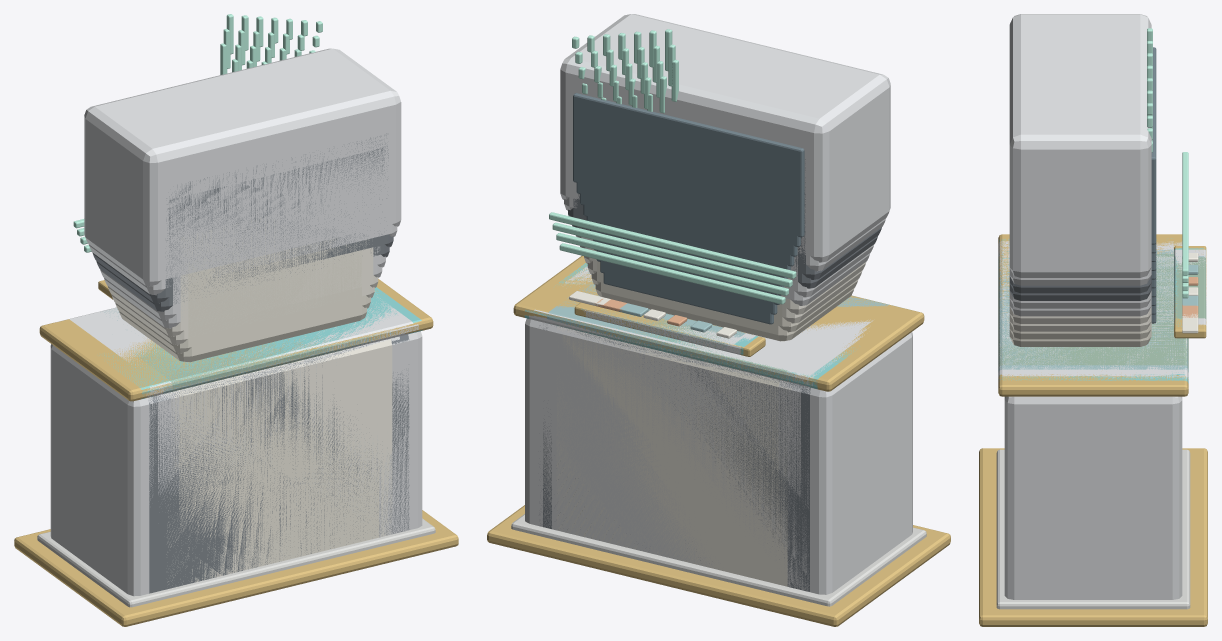
File: Gear11.fbx
3 renders of one model, left to right at view 1: azimuth 30°, elevation 25°; view 2: azimuth 150°, elevation 25°; view 3: azimuth 270°, elevation 25°, orthographic. The views are drawn at different scales.
Parts seen in each view (by area): view 1: Gear11_V10_Platinum, Gear11_V1_Ivory, Gear11_V4_Linen, Gear11_V7_Graphite, Gear11_V9_Platinum, Gear11_V10_Gold, Gear11_V8_Graphite, Gear11_V6_Platinum, Gear11_V2_Ivory, Gear11_V9_Gold, Gear11_V8_Aqua, Gear11_V3_Linen (+12 smaller); view 2: Gear11_V10_Platinum, Gear11_V3_Linen, Gear11_V5_Platinum, Gear11_V10_Glass, Gear11_V10_Gold, Gear11_V6_Platinum, Gear11_V9_Gold, Gear11_V8_Graphite, Gear11_V1_Ivory, Gear11_V9_Platinum, Gear11_V6_Glass, Gear11_V8_Glass (+23 smaller); view 3: Gear11_V10_Platinum, Gear11_V10_Gold, Gear11_V1_Sage, Gear11_V9_Gold, Gear11_V5_Platinum, Gear11_V10_Chrome, Gear11_V3_Blue, Gear11_V6_Platinum, Gear11_V2_Blue, Gear11_V10_Glow, Gear11_V8_Graphite, Gear11_V2_Ivory (+12 smaller).
Boxes of the visible parts, bbox=[...] form: Gear11_V10_Platinum: bbox=[50, 48, 422, 596]; Gear11_V1_Ivory: bbox=[119, 240, 379, 572]; Gear11_V4_Linen: bbox=[107, 213, 392, 585]; Gear11_V7_Graphite: bbox=[96, 148, 405, 592]; Gear11_V9_Platinum: bbox=[89, 119, 413, 594]; Gear11_V10_Gold: bbox=[14, 279, 458, 626]; Gear11_V8_Graphite: bbox=[92, 133, 409, 593]; Gear11_V6_Platinum: bbox=[100, 167, 413, 528]; Gear11_V2_Ivory: bbox=[115, 243, 370, 471]; Gear11_V9_Gold: bbox=[22, 280, 451, 625]; Gear11_V8_Aqua: bbox=[99, 287, 422, 398]; Gear11_V3_Linen: bbox=[111, 207, 387, 536]; Gear11_V10_Platinum: bbox=[525, 14, 912, 594]; Gear11_V3_Linen: bbox=[562, 249, 862, 586]; Gear11_V5_Platinum: bbox=[538, 246, 870, 566]; Gear11_V10_Glass: bbox=[573, 93, 804, 237]; Gear11_V10_Gold: bbox=[487, 256, 950, 626]; Gear11_V6_Platinum: bbox=[533, 235, 874, 519]; Gear11_V9_Gold: bbox=[493, 259, 942, 622]; Gear11_V8_Graphite: bbox=[539, 159, 881, 591]; Gear11_V1_Ivory: bbox=[595, 282, 854, 526]; Gear11_V9_Platinum: bbox=[534, 88, 885, 550]; Gear11_V6_Glass: bbox=[586, 152, 790, 270]; Gear11_V8_Glass: bbox=[580, 125, 797, 256]; Gear11_V10_Platinum: bbox=[1004, 14, 1182, 599]; Gear11_V10_Gold: bbox=[979, 234, 1207, 626]; Gear11_V1_Sage: bbox=[998, 254, 1206, 368]; Gear11_V9_Gold: bbox=[980, 236, 1207, 591]; Gear11_V5_Platinum: bbox=[998, 245, 1206, 376]; Gear11_V10_Chrome: bbox=[996, 449, 1190, 609]; Gear11_V3_Blue: bbox=[998, 249, 1206, 372]; Gear11_V6_Platinum: bbox=[998, 243, 1206, 378]; Gear11_V2_Blue: bbox=[998, 252, 1204, 370]; Gear11_V10_Glow: bbox=[1147, 28, 1188, 275]; Gear11_V8_Graphite: bbox=[1009, 275, 1151, 293]; Gear11_V2_Ivory: bbox=[1009, 321, 1151, 339].
Bounding box in the file's own units: 125 × 180 × 71.
